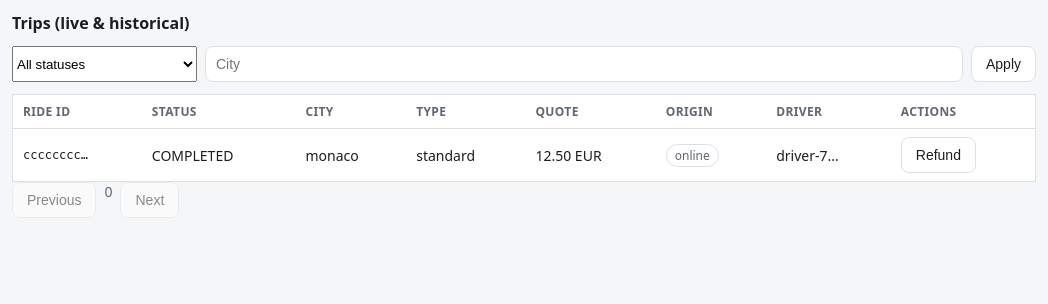
Test: TripsPage (Phase 6 trips admin) › P7-5b ADMIN_FINANCE sees Refund only on COMPLETED WALLET rows; refund posts
Check: the table with test id "trips-table" is shown, box top-left (12, 94), bottom-right (1036, 182)
Click the button "Refund" at [938, 155], box top-left (901, 137), bottom-right (976, 173)
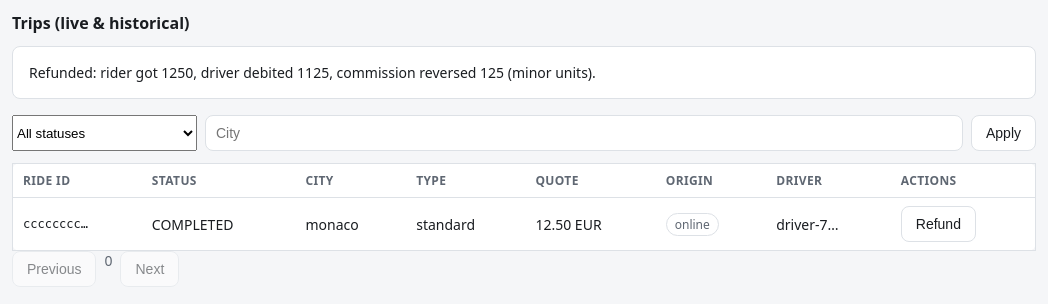
Check: the message with test id "trips-action-notice" is shown, box top-left (12, 46), bottom-right (1036, 99)
